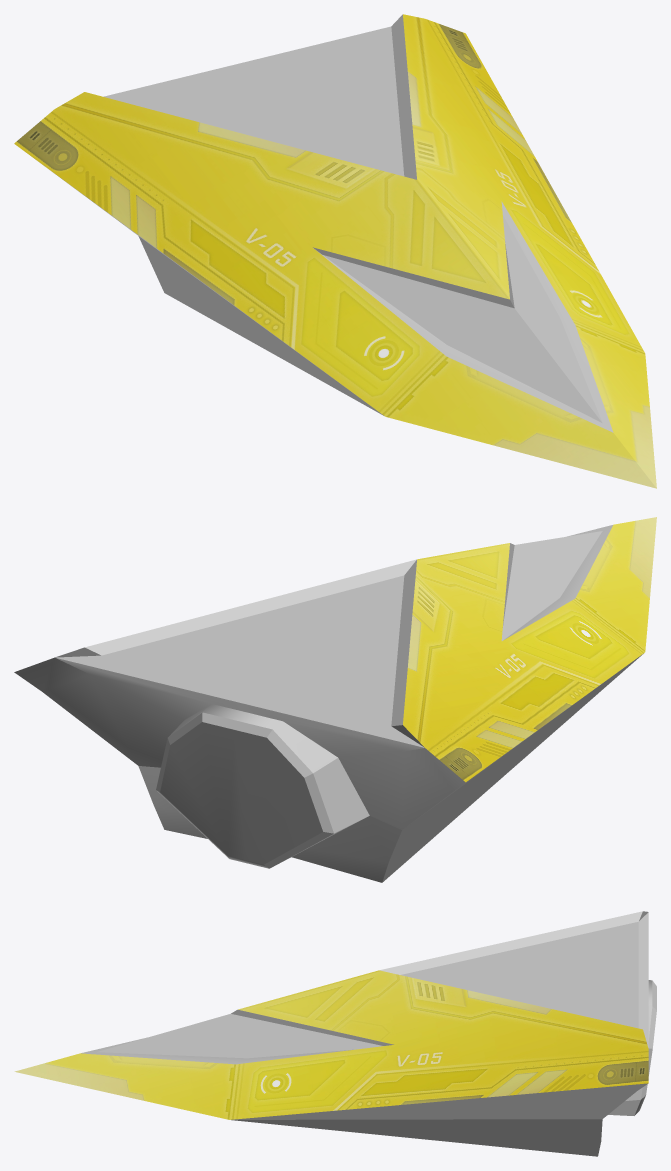
Rendered from Main_part.fbx.
The picture shows the model from 3 angles, top to bottom: view 1: azimuth 30°, elevation 25°; view 2: azimuth 150°, elevation 25°; view 3: azimuth 270°, elevation 25°; orthographic projection. The views are drawn at different scales.
Visible parts, largest first — view 1: Main_part; view 2: Main_part; view 3: Main_part.
Boxes of the visible parts, x1=… form: Main_part: x1=14, y1=14, x2=656, y2=488; Main_part: x1=14, y1=517, x2=656, y2=882; Main_part: x1=14, y1=911, x2=656, y2=1156.
Size of the model in its own units: 0.8348 by 0.3544 by 1.35.
